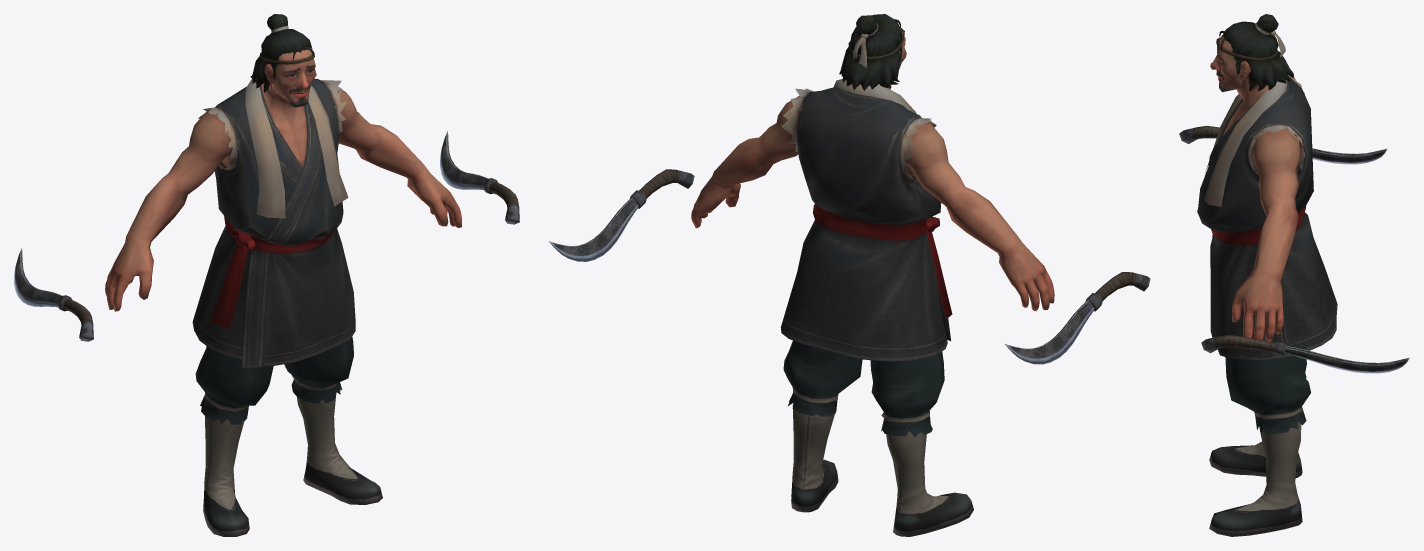
Rendered from npc_ip_kezhanlaoban.FBX.
3 views of the same model, side by side, from view 1: azimuth 30°, elevation 25°; view 2: azimuth 150°, elevation 25°; view 3: azimuth 270°, elevation 25° (orthographic). The views are drawn at different scales.
Parts seen in each view (by area): view 1: 7_npc_ip_kezhanlaoban_001, 7_g_csz_changfumenkewuqi_002, 7_g_csz_changfumenkewuqi_001; view 2: 7_npc_ip_kezhanlaoban_001, 7_g_csz_changfumenkewuqi_001, 7_g_csz_changfumenkewuqi_002; view 3: 7_npc_ip_kezhanlaoban_001, 7_g_csz_changfumenkewuqi_001, 7_g_csz_changfumenkewuqi_002.
Boxes of the visible parts, x1,y1,x2,y2 form: 7_npc_ip_kezhanlaoban_001: (105,14,461,536); 7_g_csz_changfumenkewuqi_002: (14,248,93,341); 7_g_csz_changfumenkewuqi_001: (440,131,519,224); 7_npc_ip_kezhanlaoban_001: (691,14,1054,536); 7_g_csz_changfumenkewuqi_001: (549,169,694,261); 7_g_csz_changfumenkewuqi_002: (1005,272,1150,364); 7_npc_ip_kezhanlaoban_001: (1197,14,1337,536); 7_g_csz_changfumenkewuqi_001: (1201,335,1409,373); 7_g_csz_changfumenkewuqi_002: (1179,126,1387,164).
Size of the model in its own units: 223 by 216 by 93.59.
Materials: 3 (3 with a texture image).
